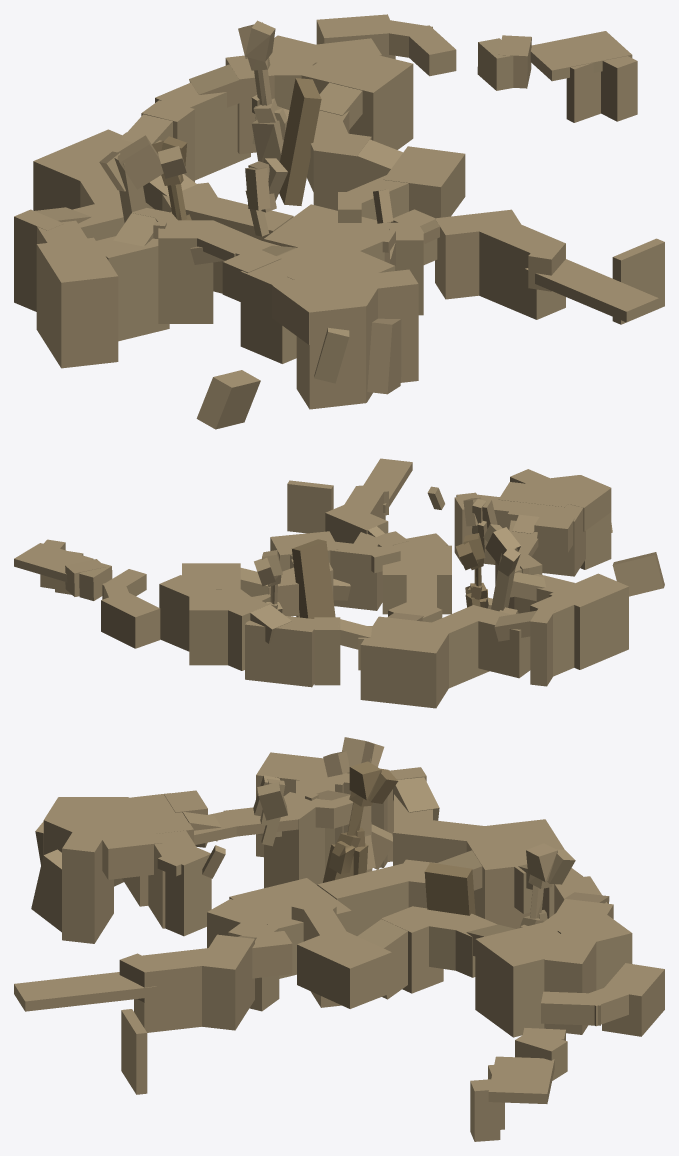
The model's file is p_FloorsButterfly.fbx.
3 views of the same model, one above another, from view 1: azimuth 30°, elevation 25°; view 2: azimuth 150°, elevation 25°; view 3: azimuth 270°, elevation 25° (orthographic). The views are drawn at different scales.
Parts seen in each view (by area): view 1: Floor_03__160_, Floor_03__176_, Floor_03__149_, Floor_03__145_, Floor_03__166_, Floor_03__161_, Floor_03__150_, Floor_03__165_, Floor_03__159_, Floor_03__146_, Floor_03__153_, Floor_03__144_ (+52 smaller); view 2: Floor_03__150_, Floor_03__160_, Floor_03__153_, Floor_03__147_, Floor_03__221_, Floor_03__156_, Floor_03__163_, Floor_03__192_, Floor_03__162_, Floor_03__219_, Floor_03__161_, Floor_03__218_ (+39 smaller); view 3: Floor_03__149_, Floor_03__159_, Floor_03__150_, Floor_03__175_, Floor_03__145_, Floor_03__146_, Floor_03__166_, Floor_03__174_, Floor_03__148_, Stalagnal__2_, Floor_03__144_, Floor_03__147_ (+44 smaller).
Part boxes in pixels (bbox=[...]): Floor_03__160_: bbox=[36, 237, 118, 368]; Floor_03__176_: bbox=[296, 285, 366, 409]; Floor_03__149_: bbox=[301, 46, 413, 149]; Floor_03__145_: bbox=[475, 217, 565, 319]; Floor_03__166_: bbox=[158, 220, 213, 323]; Floor_03__161_: bbox=[240, 243, 335, 363]; Floor_03__150_: bbox=[33, 129, 154, 210]; Floor_03__165_: bbox=[88, 236, 169, 341]; Floor_03__159_: bbox=[383, 146, 465, 218]; Floor_03__146_: bbox=[435, 209, 522, 299]; Floor_03__153_: bbox=[155, 82, 250, 180]; Floor_03__144_: bbox=[525, 259, 658, 322]; Floor_03__150_: bbox=[360, 616, 453, 708]; Floor_03__160_: bbox=[549, 573, 628, 669]; Floor_03__153_: bbox=[245, 616, 319, 687]; Floor_03__147_: bbox=[382, 545, 451, 614]; Floor_03__221_: bbox=[189, 590, 232, 665]; Floor_03__156_: bbox=[330, 541, 382, 610]; Floor_03__163_: bbox=[459, 606, 530, 678]; Floor_03__192_: bbox=[292, 539, 335, 618]; Floor_03__162_: bbox=[425, 605, 494, 688]; Floor_03__219_: bbox=[101, 593, 160, 648]; Floor_03__161_: bbox=[507, 501, 585, 576]; Floor_03__218_: bbox=[159, 575, 216, 651]; Floor_03__149_: bbox=[475, 922, 581, 1037]; Floor_03__159_: bbox=[297, 928, 391, 1008]; Floor_03__150_: bbox=[459, 819, 564, 928]; Floor_03__175_: bbox=[62, 817, 113, 943]; Floor_03__145_: bbox=[134, 947, 223, 1032]; Floor_03__146_: bbox=[201, 934, 254, 1030]; Floor_03__166_: bbox=[264, 792, 324, 888]; Floor_03__174_: bbox=[85, 806, 161, 879]; Floor_03__148_: bbox=[317, 863, 422, 935]; Stalagnal__2_: bbox=[323, 761, 398, 882]; Floor_03__144_: bbox=[14, 972, 156, 1011]; Floor_03__147_: bbox=[229, 878, 351, 978].
Size of the model in its own units: 6750 by 1683 by 5818.
